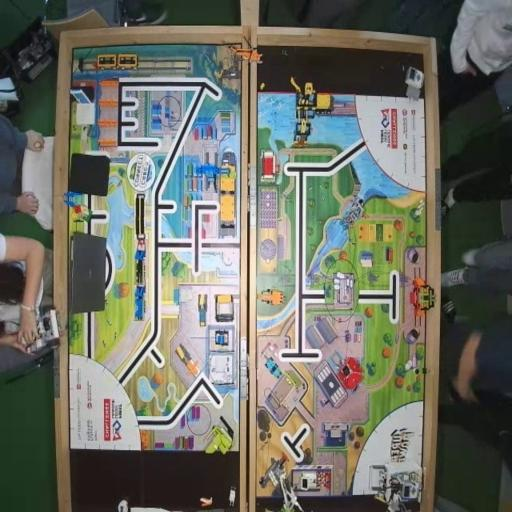lego_robot: (370, 462, 424, 512)
